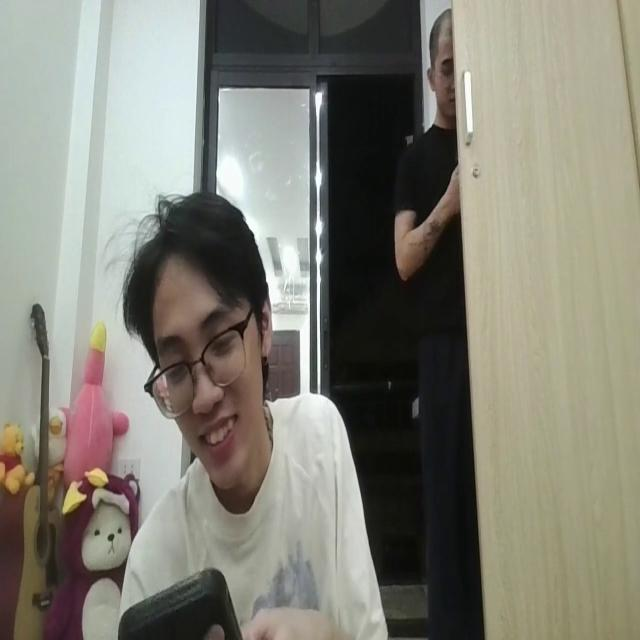extra_person: (394, 0, 478, 640)
phone: (119, 562, 245, 640)
student: (108, 186, 383, 640)
